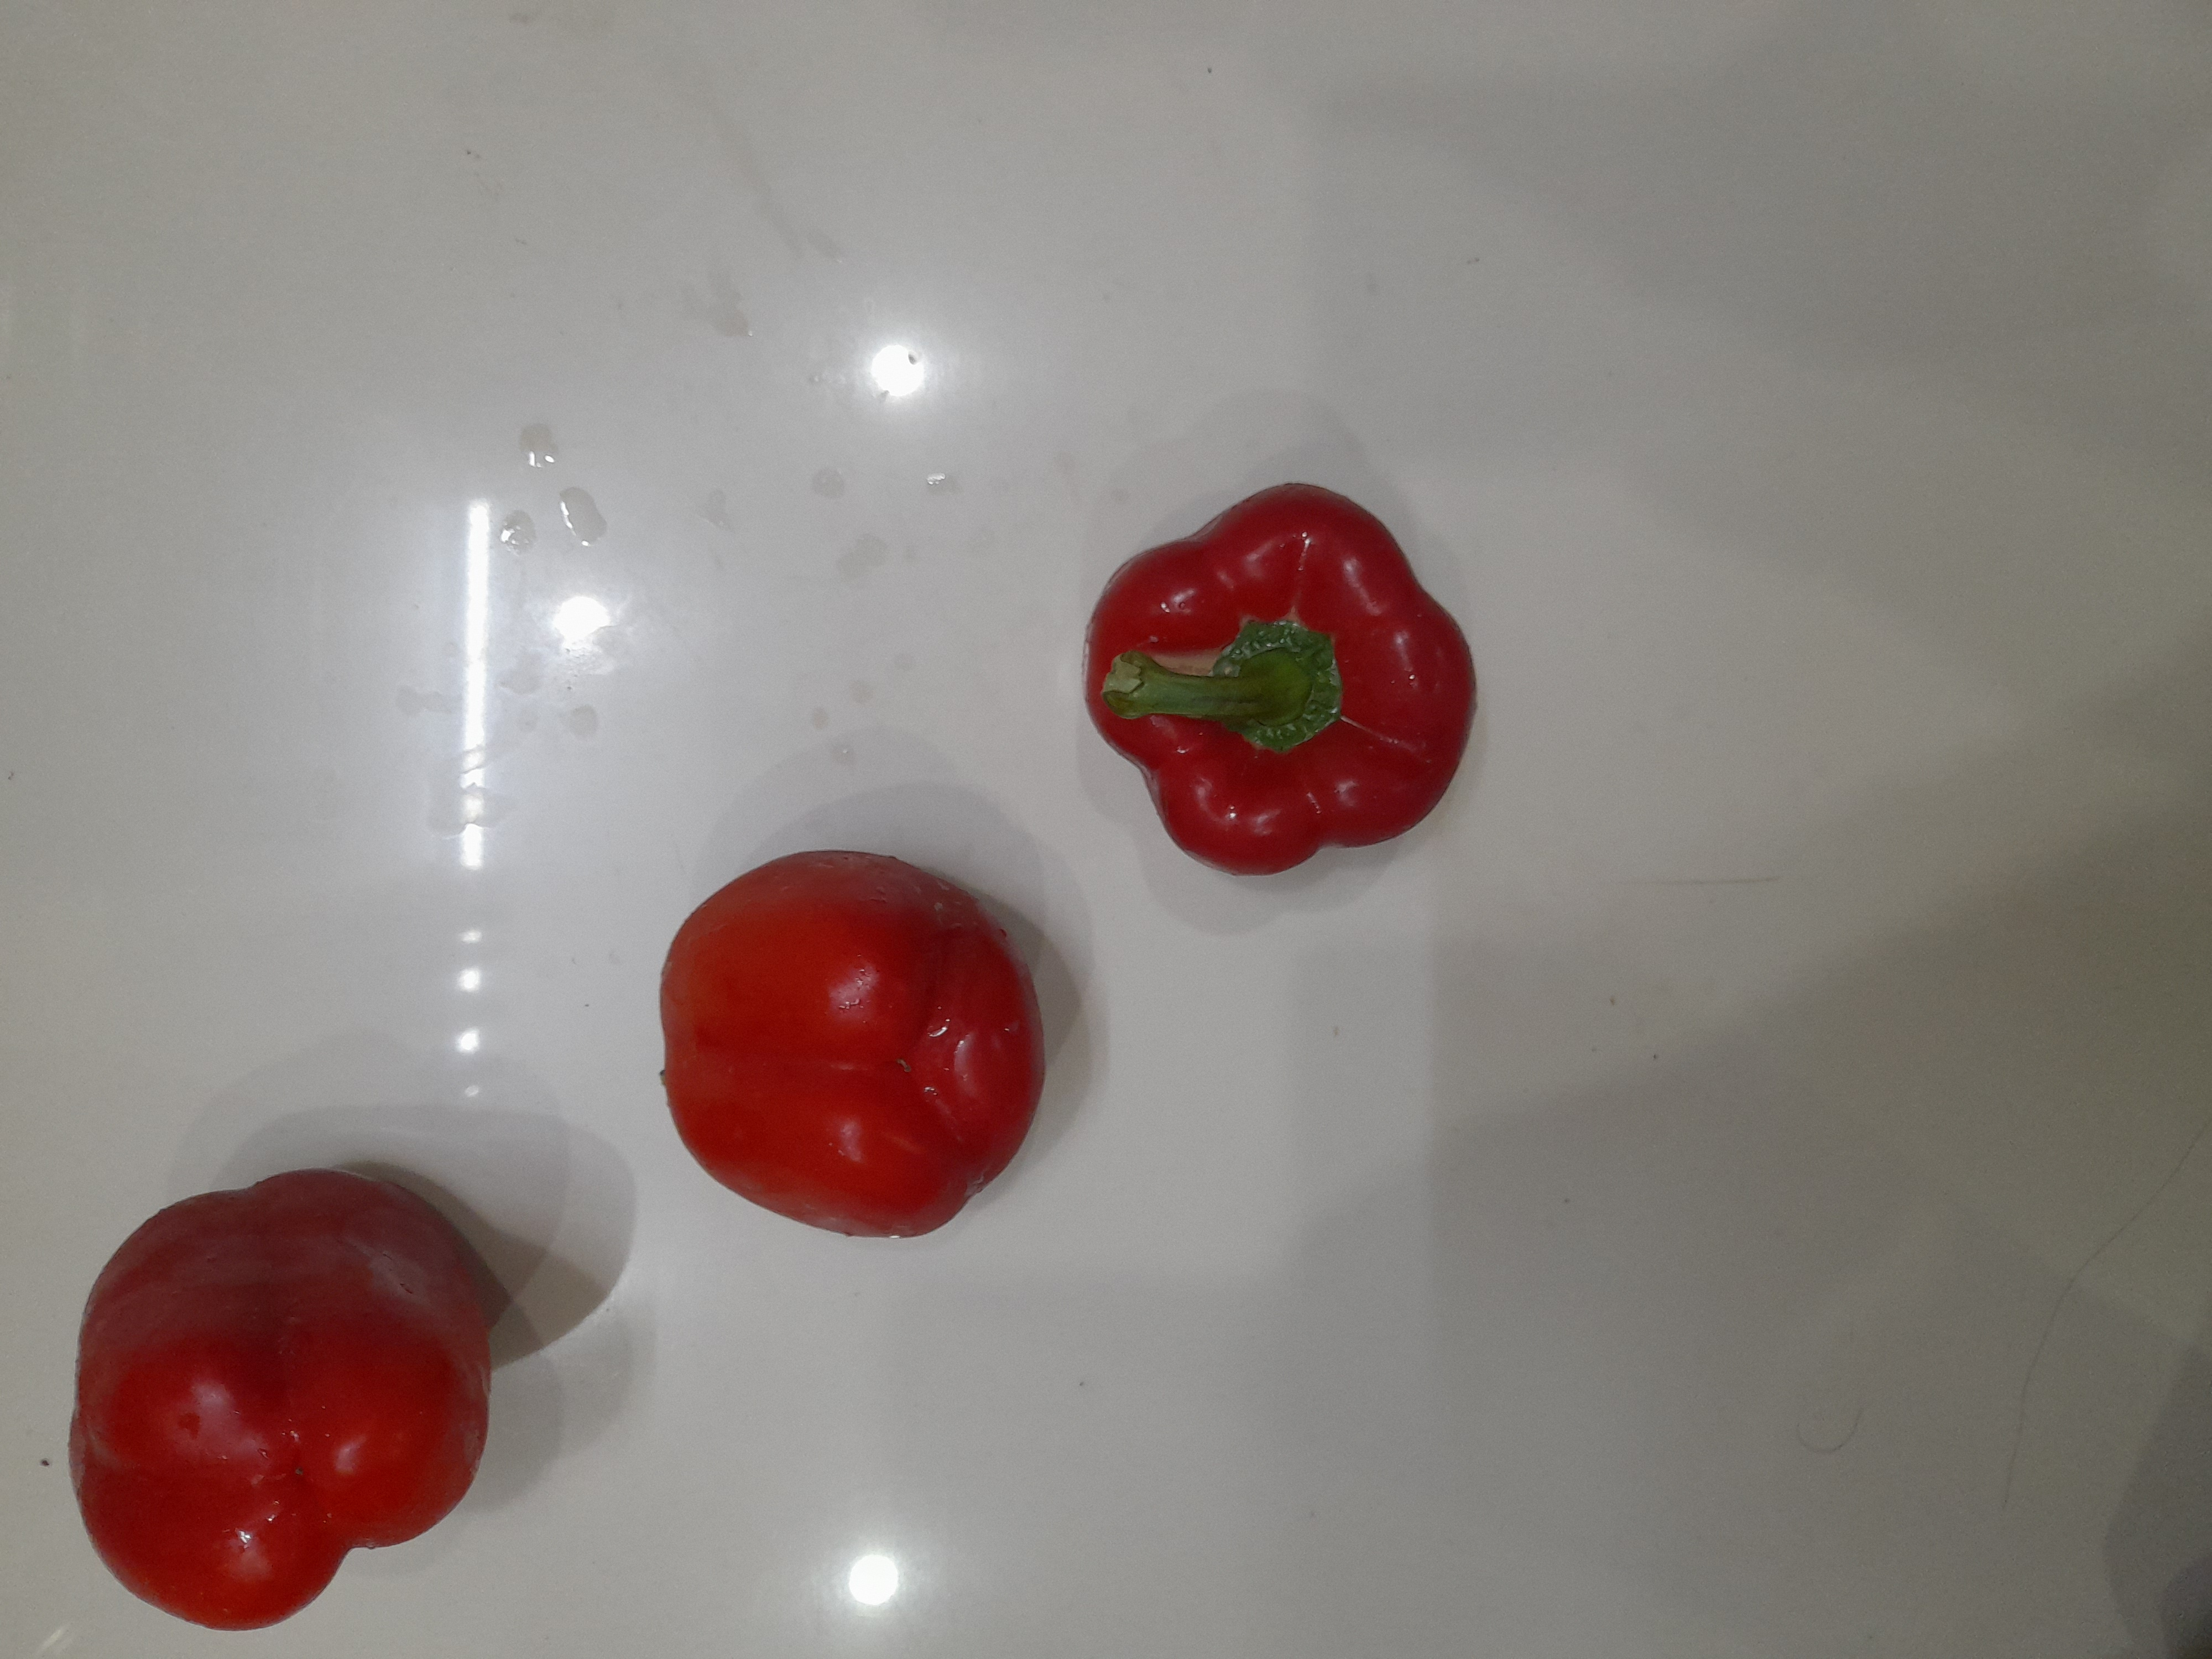Ot chuong: (64, 1168, 487, 1629), (1080, 483, 1477, 878), (659, 849, 1045, 1246)
